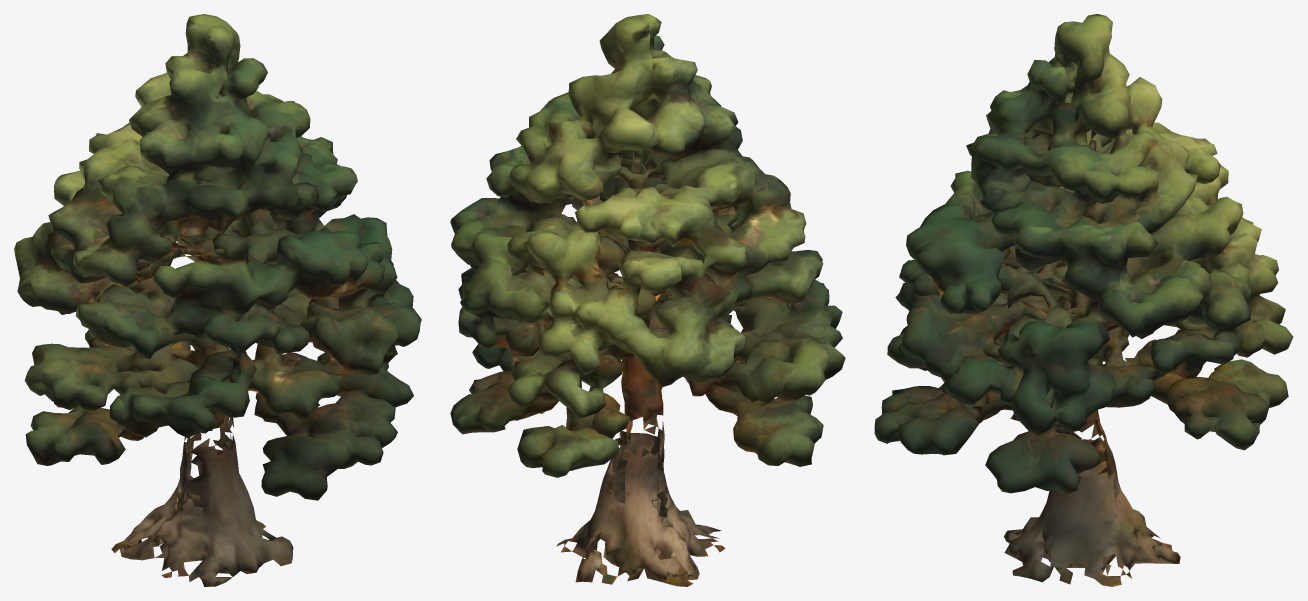
The model's file is tree_01.fbx.
3 renders of one model, left to right at view 1: azimuth 30°, elevation 25°; view 2: azimuth 150°, elevation 25°; view 3: azimuth 270°, elevation 25°, orthographic.
Parts seen in each view (by area): view 1: PineTree_01; view 2: PineTree_01; view 3: PineTree_01.
Part boxes in pixels (x1,y1,x2,y2): PineTree_01: (14,14,421,586); PineTree_01: (450,14,845,586); PineTree_01: (874,14,1293,586).
Bounding box in the file's own units: 434 × 598 × 423.
1 material, 1 textured.
